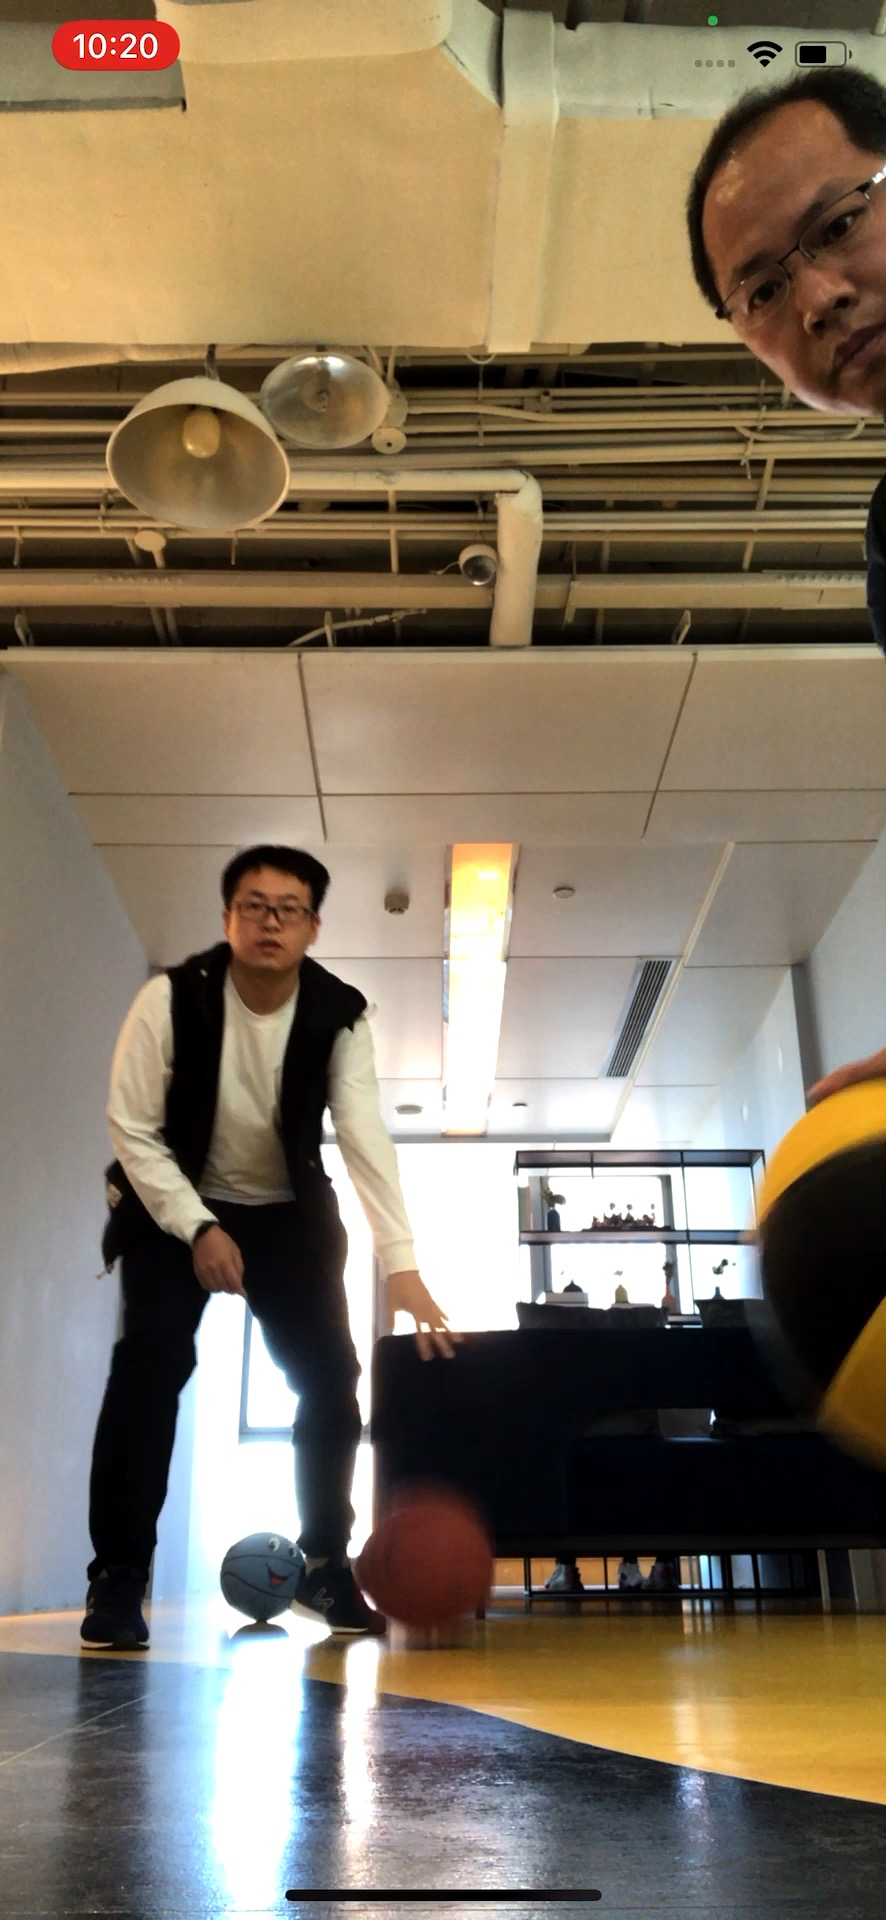ball: (755, 1082, 886, 1464), (357, 1500, 498, 1622), (223, 1529, 302, 1621)
